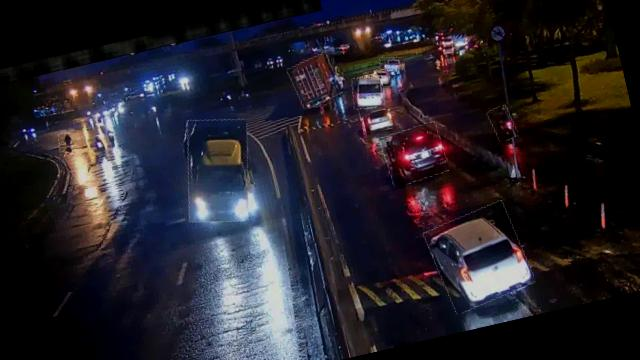Bike: (488, 104, 518, 143), (86, 134, 107, 158), (56, 132, 74, 153)
Bus: (350, 74, 388, 112)
Car: (424, 200, 535, 314), (380, 121, 450, 186), (358, 101, 393, 135), (378, 54, 406, 78), (372, 67, 397, 89)
Truck: (173, 111, 264, 230), (288, 52, 344, 109)
